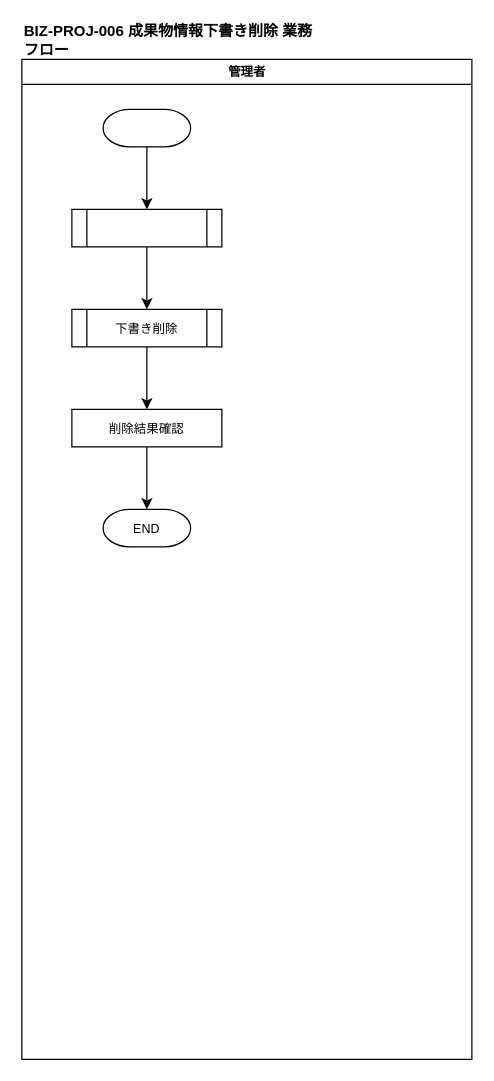
Image size: 494x1081. Some labels were removed from this diagram. The centre of each missing label's shape, as x and y in pixels:
START: point (146, 127)
下書き選択: point (146, 227)
